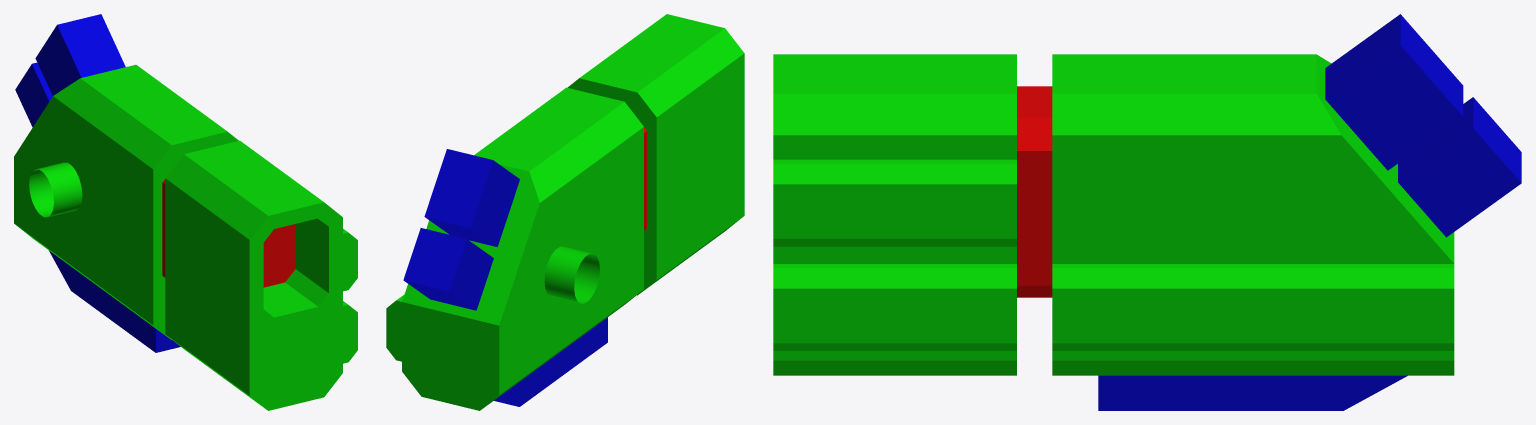
Rendered from WeaponBot_Phaser_LVL0.FBX.
The picture shows the model from 3 angles, left to right: view 1: azimuth 30°, elevation 25°; view 2: azimuth 150°, elevation 25°; view 3: azimuth 270°, elevation 25°; orthographic projection. The views are drawn at different scales.
Parts seen in each view (by area): view 1: WeaponBot_Phaser_LVL0; view 2: WeaponBot_Phaser_LVL0; view 3: WeaponBot_Phaser_LVL0.
Part boxes in pixels (<box>): WeaponBot_Phaser_LVL0: <box>14,14,357,410</box>; WeaponBot_Phaser_LVL0: <box>386,14,744,410</box>; WeaponBot_Phaser_LVL0: <box>773,14,1521,410</box>.
Bounding box in the file's own units: 23.73 × 41.5 × 77.82.
